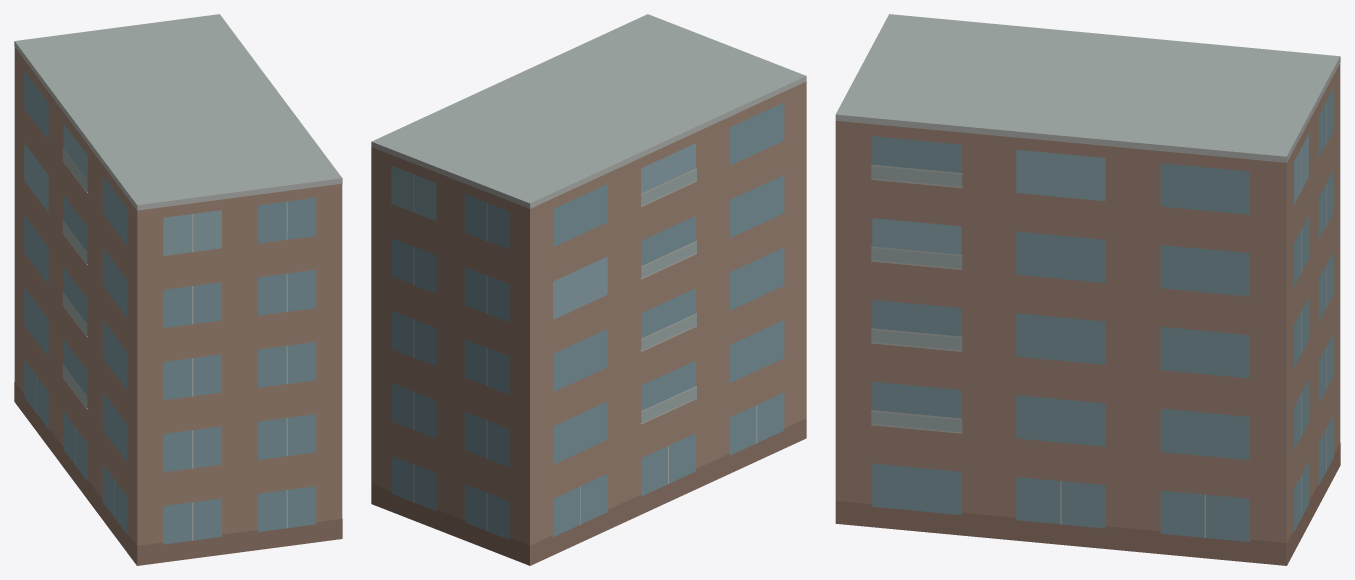
File: survey-upis-32602760.glb
The picture shows the model from 3 angles, left to right: view 1: azimuth 30°, elevation 25°; view 2: azimuth 150°, elevation 25°; view 3: azimuth 270°, elevation 25°; orthographic projection. The views are drawn at different scales.
Visible parts, largest first — view 1: survey-upis-32602760.tmp; view 2: survey-upis-32602760.tmp; view 3: survey-upis-32602760.tmp.
Boxes of the visible parts, left/top/right/bottom form: survey-upis-32602760.tmp: left=14, top=14, right=342, bottom=565; survey-upis-32602760.tmp: left=371, top=14, right=806, bottom=565; survey-upis-32602760.tmp: left=835, top=14, right=1340, bottom=565.
Size of the model in its own units: 12.21 by 16.3 by 18.24.
